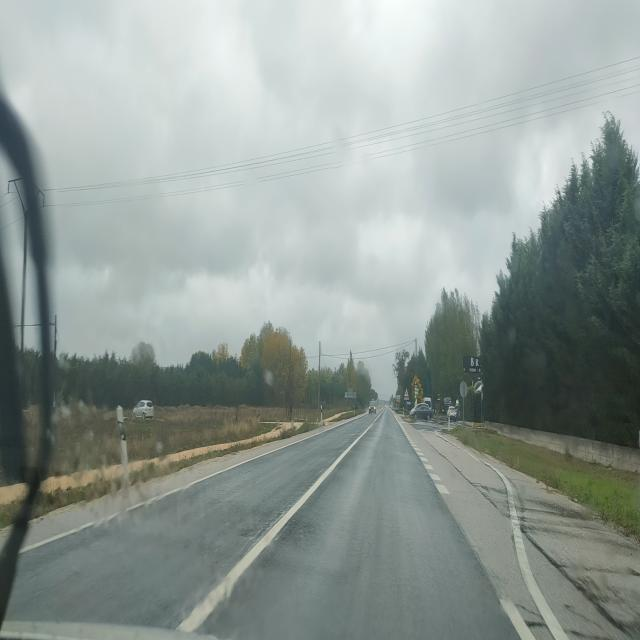Poth-hole: (511, 516, 628, 640), (419, 430, 502, 516)
